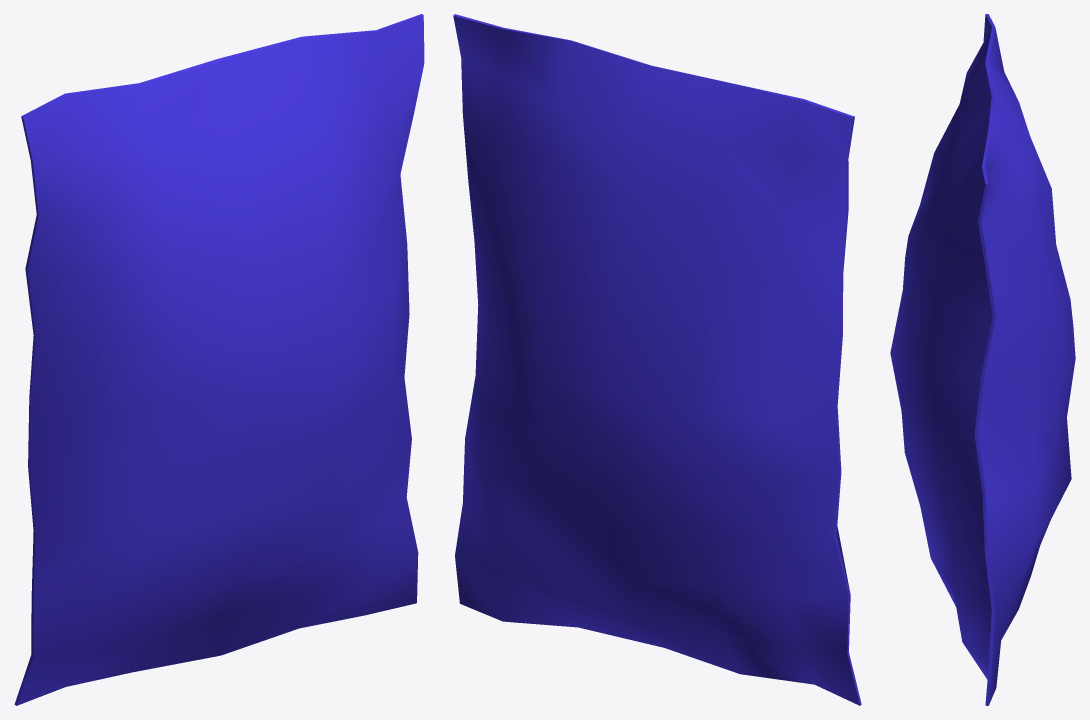
The model's file is SacchettoPatatineNachos.fbx.
3 renders of one model, left to right at view 1: azimuth 30°, elevation 25°; view 2: azimuth 150°, elevation 25°; view 3: azimuth 270°, elevation 25°, orthographic. The views are drawn at different scales.
Parts seen in each view (by area): view 1: SacchettoChips.003; view 2: SacchettoChips.003; view 3: SacchettoChips.003.
Boxes of the visible parts, x1,y1,x2,y2 form: SacchettoChips.003: (14,14,424,705); SacchettoChips.003: (453,14,861,705); SacchettoChips.003: (890,14,1075,705).
Bounding box in the file's own units: 187 × 261 × 82.28.
